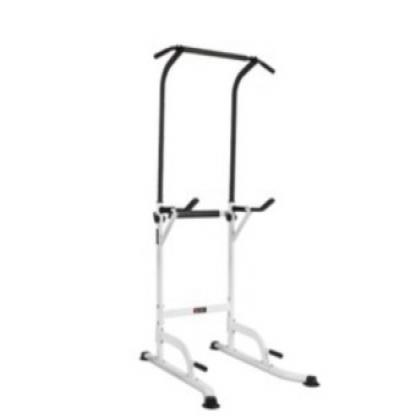chinning dipping: (139, 43, 322, 411)
